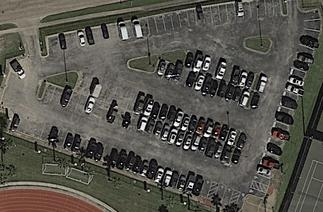parkingspot: (9, 112, 214, 199), (40, 83, 234, 165), (45, 0, 283, 54), (252, 9, 322, 187), (72, 73, 239, 146), (153, 58, 252, 109), (182, 49, 258, 92), (213, 183, 235, 207), (235, 192, 248, 212), (247, 187, 267, 200)
